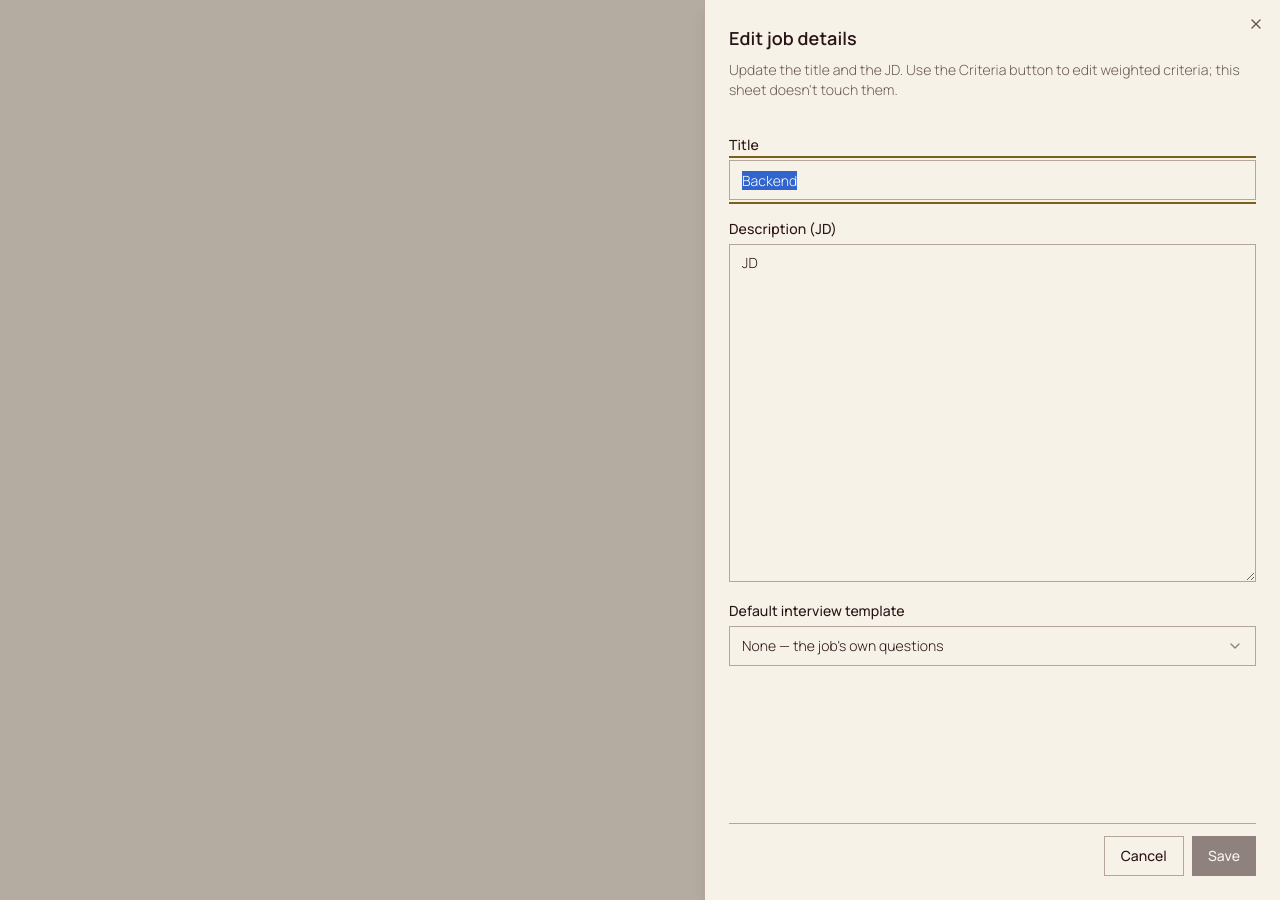
Test: EditJobDetailsSheet — default interview template › names each template's kind, as the other two pickers do
Click the dropdown named "default interview template".
click(843, 646)  # box top-left (729, 626), bottom-right (1256, 666)
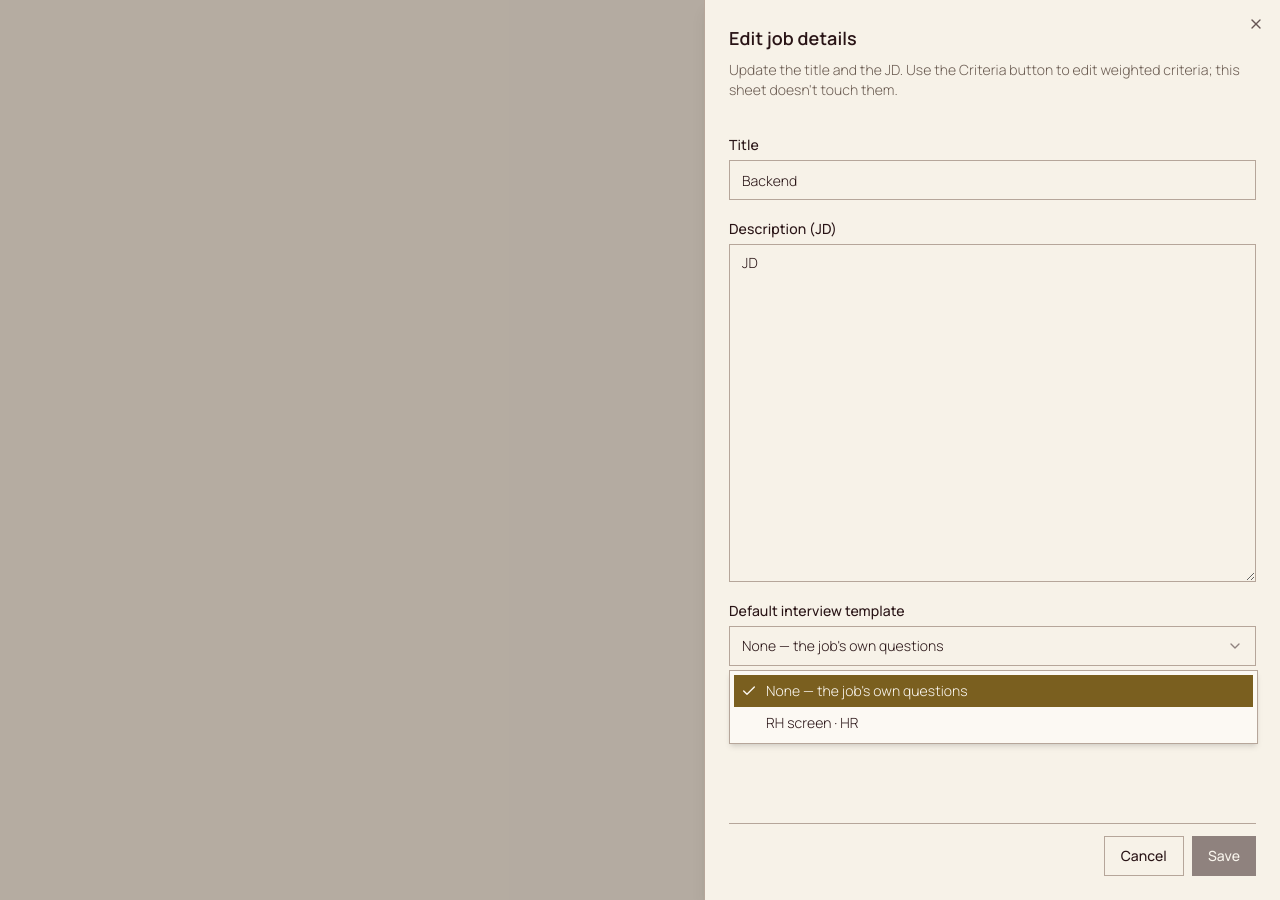
Expected: the option "RH screen · HR" is shown, top-left (766, 713), bottom-right (859, 732)
